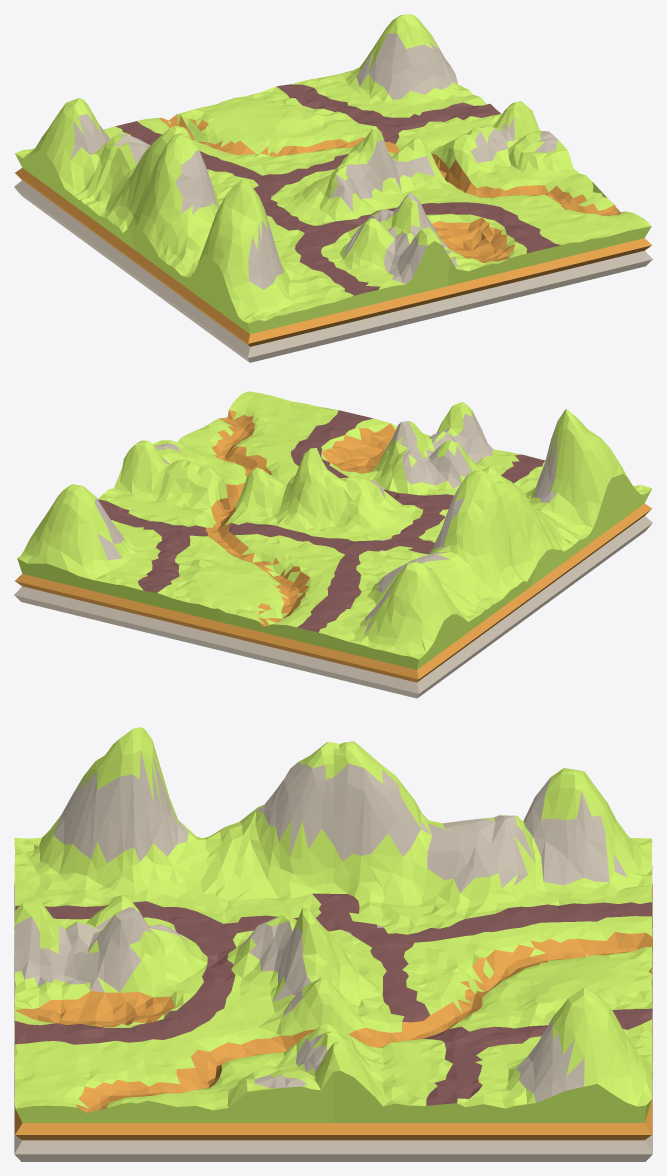
The model's file is Forest 1.fbx.
3 views of the same model, one above another, from view 1: azimuth 30°, elevation 25°; view 2: azimuth 150°, elevation 25°; view 3: azimuth 270°, elevation 25° (orthographic). The views are drawn at different scales.
Visible parts, largest first — view 1: Forest; view 2: Forest; view 3: Forest.
Part boxes in pixels (<box>): Forest: <box>14,14,652,362</box>; Forest: <box>14,391,652,698</box>; Forest: <box>14,727,652,1161</box>.
Size of the model in its own units: 20135 by 6762 by 20053.
